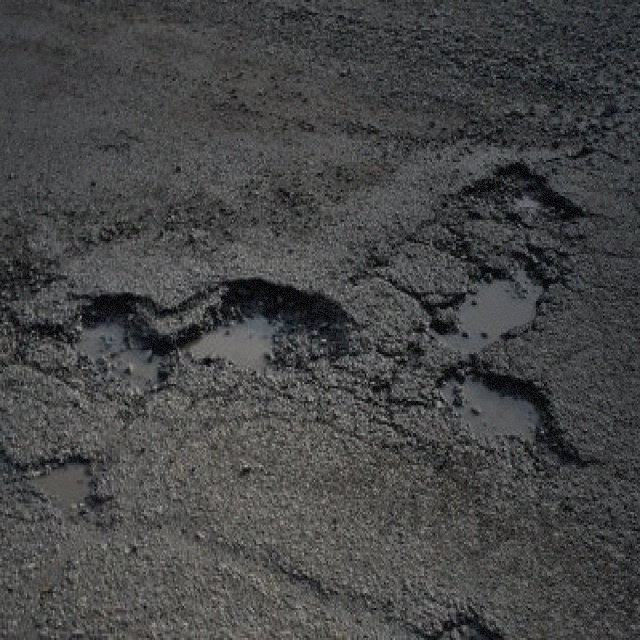pothole: (174, 271, 353, 386), (428, 361, 578, 472), (414, 252, 552, 348), (64, 286, 174, 403), (461, 158, 587, 232), (26, 446, 110, 523), (426, 608, 508, 638)
